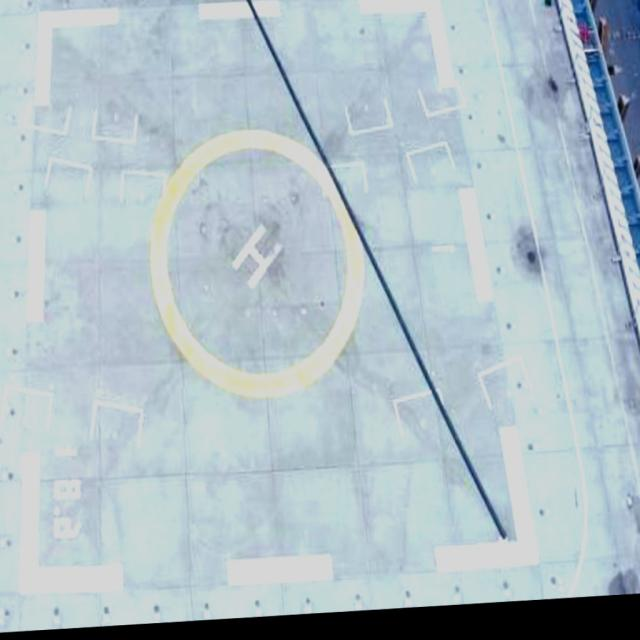helipad: (144, 124, 372, 403)
